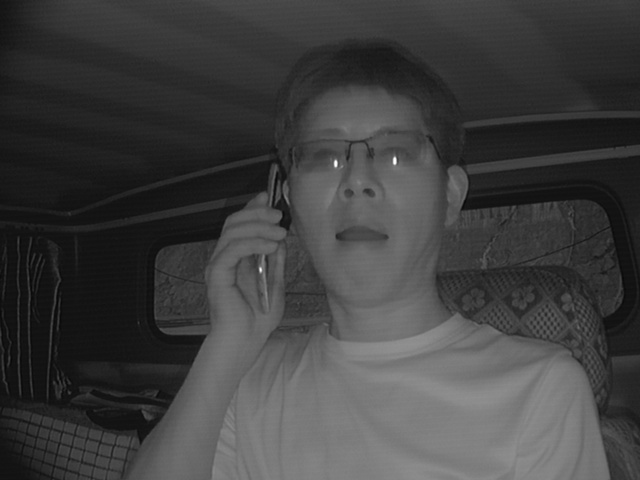hand: (205, 196, 290, 342)
